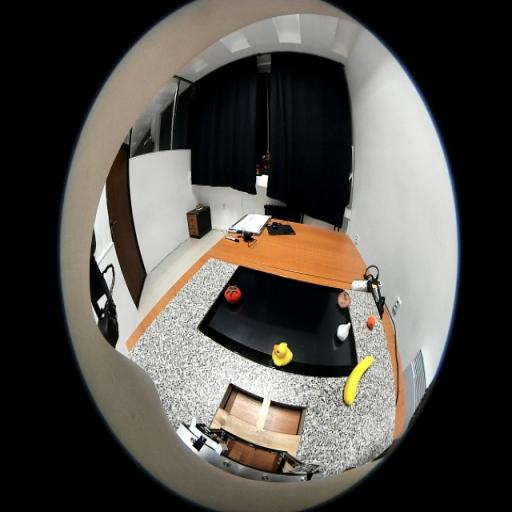Banana: (344, 356, 374, 405)
Duck: (272, 342, 293, 367)
Mushroom: (337, 291, 351, 308)
Onion: (336, 322, 350, 341)
Orange: (367, 315, 375, 329)
Tomato: (224, 284, 242, 304)
